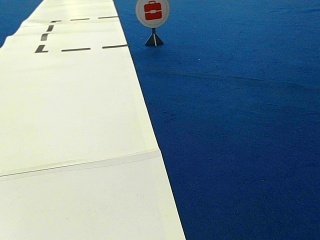company: (135, 0, 169, 27)
